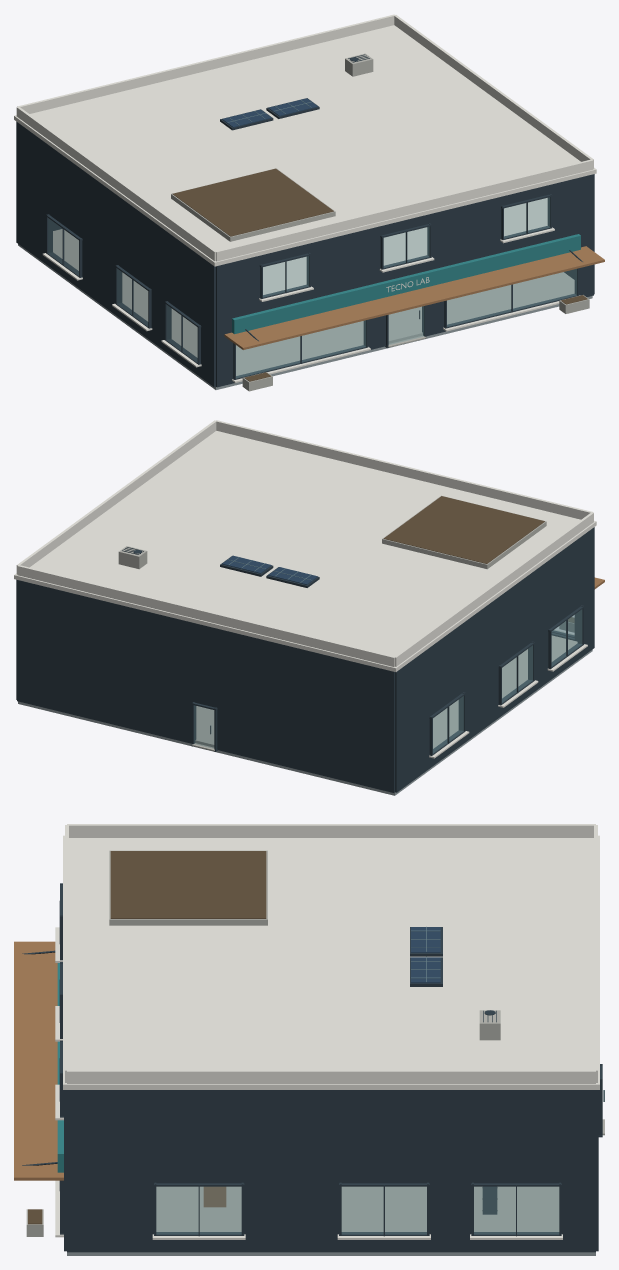
File: Shop_3.fbx
The picture shows the model from 3 angles, top to bottom: view 1: azimuth 30°, elevation 25°; view 2: azimuth 150°, elevation 25°; view 3: azimuth 270°, elevation 25°; orthographic projection. The views are drawn at different scales.
Visible parts, largest first — view 1: Shop_3.085; view 2: Shop_3.085; view 3: Shop_3.085.
Part boxes in pixels (x1,y1,x2,y2): Shop_3.085: (14, 14, 604, 391); Shop_3.085: (14, 420, 604, 795); Shop_3.085: (14, 824, 604, 1255).
Size of the model in its own units: 22.87 by 7.97 by 22.35.
